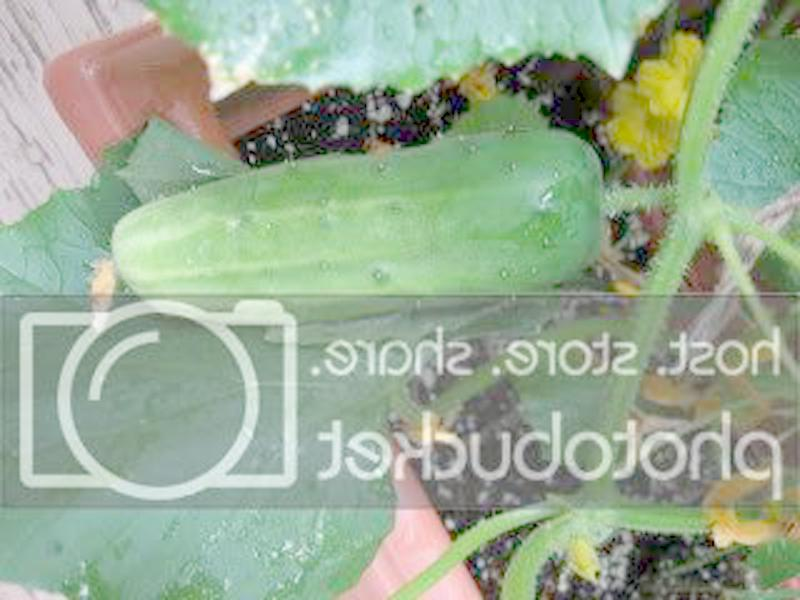Cucumber: (106, 128, 599, 325)
